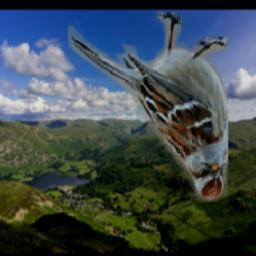Sparrow: (68, 13, 228, 203)
